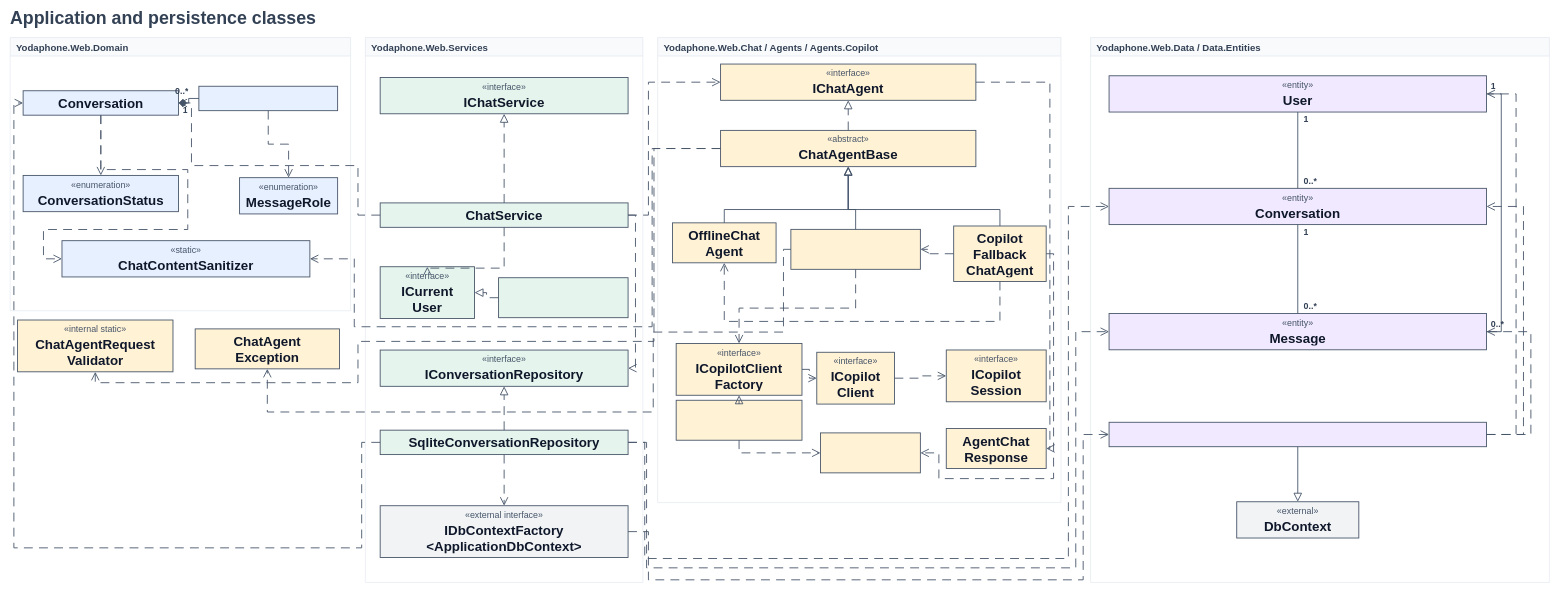
Image size: 1556x594. Some labels were removed from this diagram. The shapes that lost their labels are listed below. From the top down, each one's centre as x and y in pixels, then its label:
the point at 268,98: ChatMessage
the point at 855,249: GitHubCopilot Agent
the point at 563,297: Configuration CurrentUser
the point at 739,420: CopilotClient Factory
the point at 1297,434: ApplicationDbContext
the point at 870,452: Copilot Options
